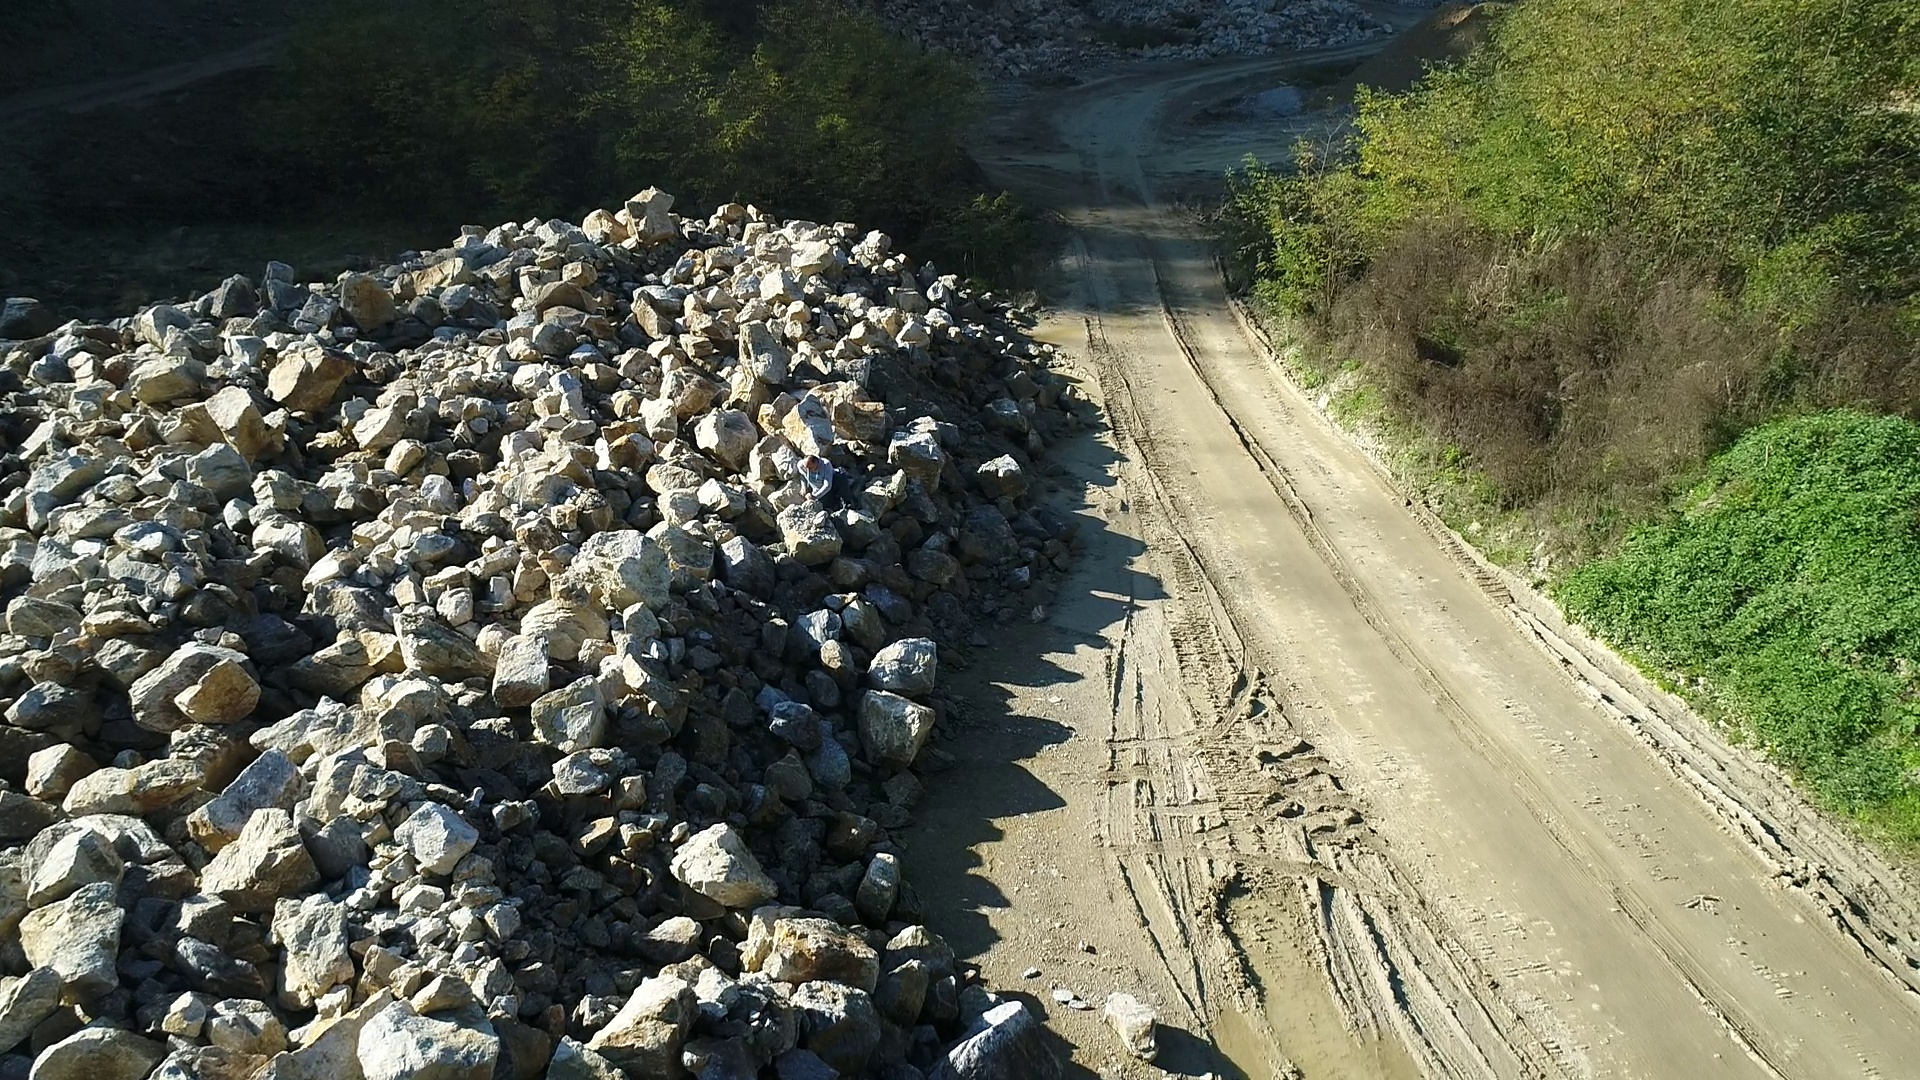not_defined: (795, 455, 855, 512)
